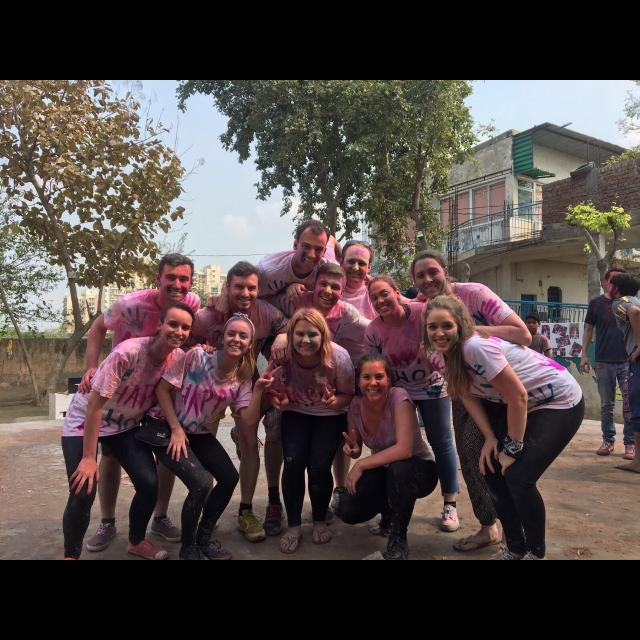head: (424, 296, 466, 354), (154, 254, 196, 302), (412, 248, 450, 300), (356, 352, 392, 404), (227, 260, 263, 312), (157, 302, 195, 350), (293, 222, 329, 272), (312, 264, 348, 312), (292, 308, 326, 358), (338, 240, 374, 286), (366, 276, 402, 318), (221, 314, 255, 358), (609, 272, 639, 302), (604, 268, 628, 296), (526, 313, 542, 333)
person: (283, 237, 427, 518), (75, 252, 205, 556), (210, 217, 350, 471), (260, 260, 380, 538), (179, 261, 287, 545), (360, 275, 464, 535), (262, 304, 358, 556), (518, 312, 554, 431)
